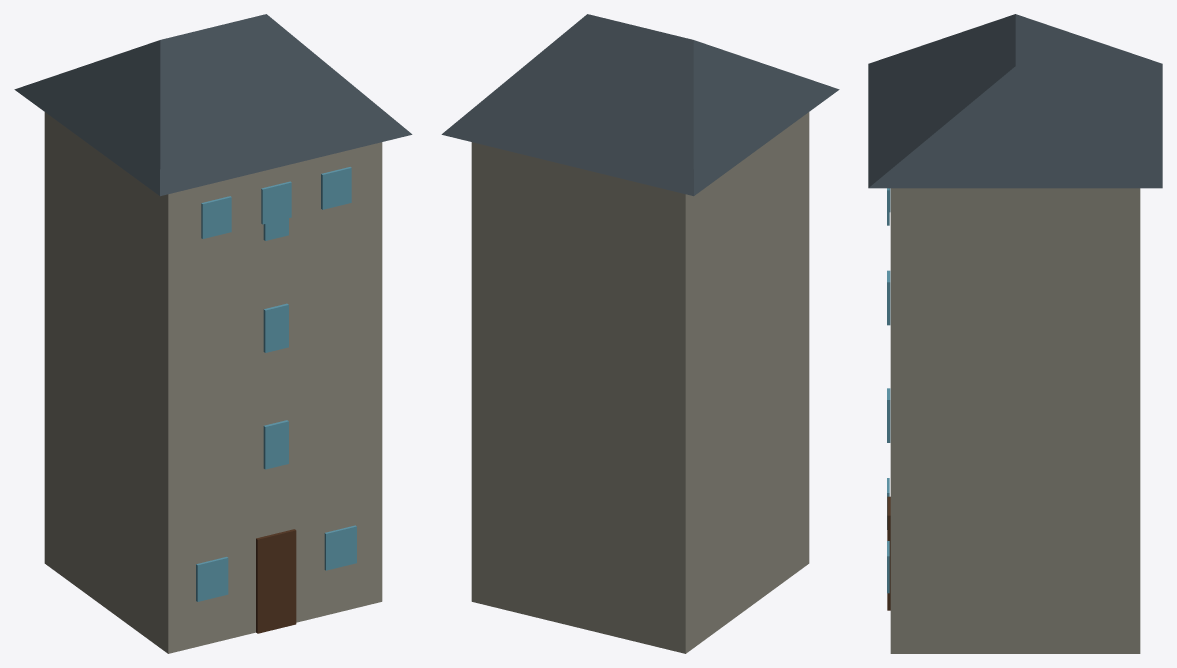
Rendered from tower.obj.
3 renders of one model, left to right at view 1: azimuth 30°, elevation 25°; view 2: azimuth 150°, elevation 25°; view 3: azimuth 270°, elevation 25°, orthographic.
Visible parts, largest first — view 1: Cube; view 2: Cube; view 3: Cube.
Part boxes in pixels (left/top/right/bottom): Cube: left=14, top=14, right=412, bottom=653; Cube: left=441, top=14, right=839, bottom=653; Cube: left=868, top=14, right=1162, bottom=653.
Size of the model in its own units: 5.9 by 12.4 by 5.9.
